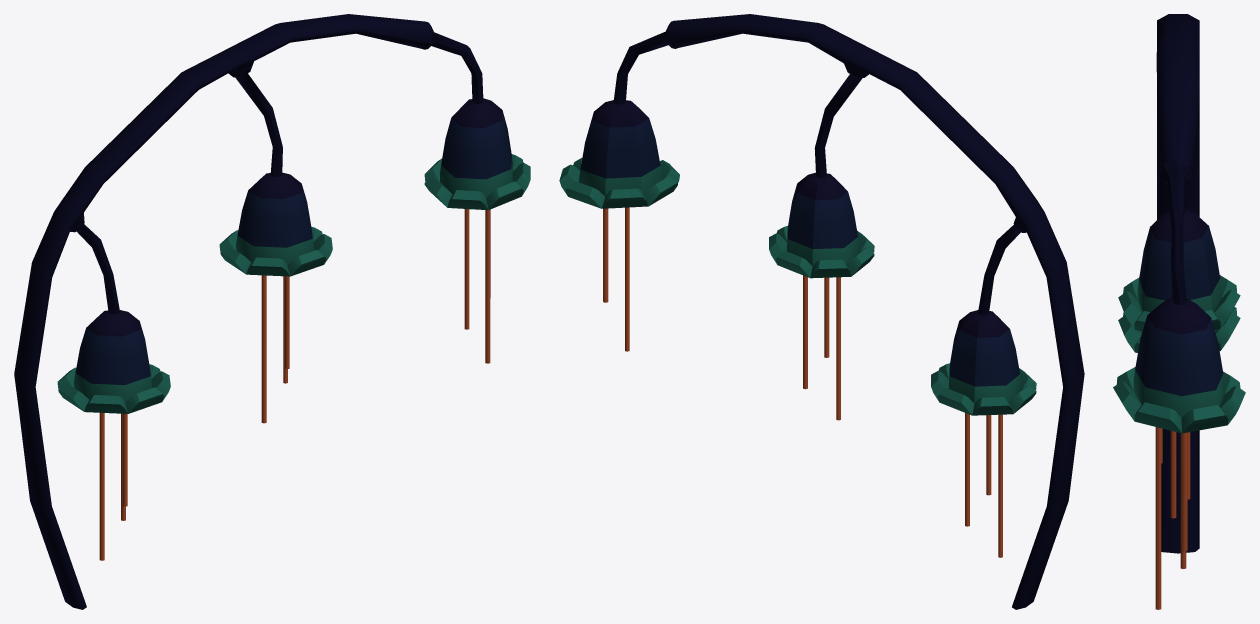
Rendered from bluebell.FBX.
3 views of the same model, side by side, from view 1: azimuth 30°, elevation 25°; view 2: azimuth 150°, elevation 25°; view 3: azimuth 270°, elevation 25° (orthographic). The views are drawn at different scales.
Visible parts, largest first — view 1: Cylinder001; view 2: Cylinder001; view 3: Cylinder001.
Boxes of the visible parts, box(x1,y1,x2,y2) form: Cylinder001: box(14, 14, 530, 609); Cylinder001: box(559, 14, 1084, 609); Cylinder001: box(1113, 14, 1245, 609).
Size of the model in its own units: 180 by 178 by 33.86.
